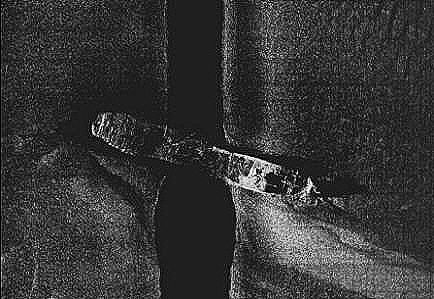ship: (90, 108, 325, 207)
